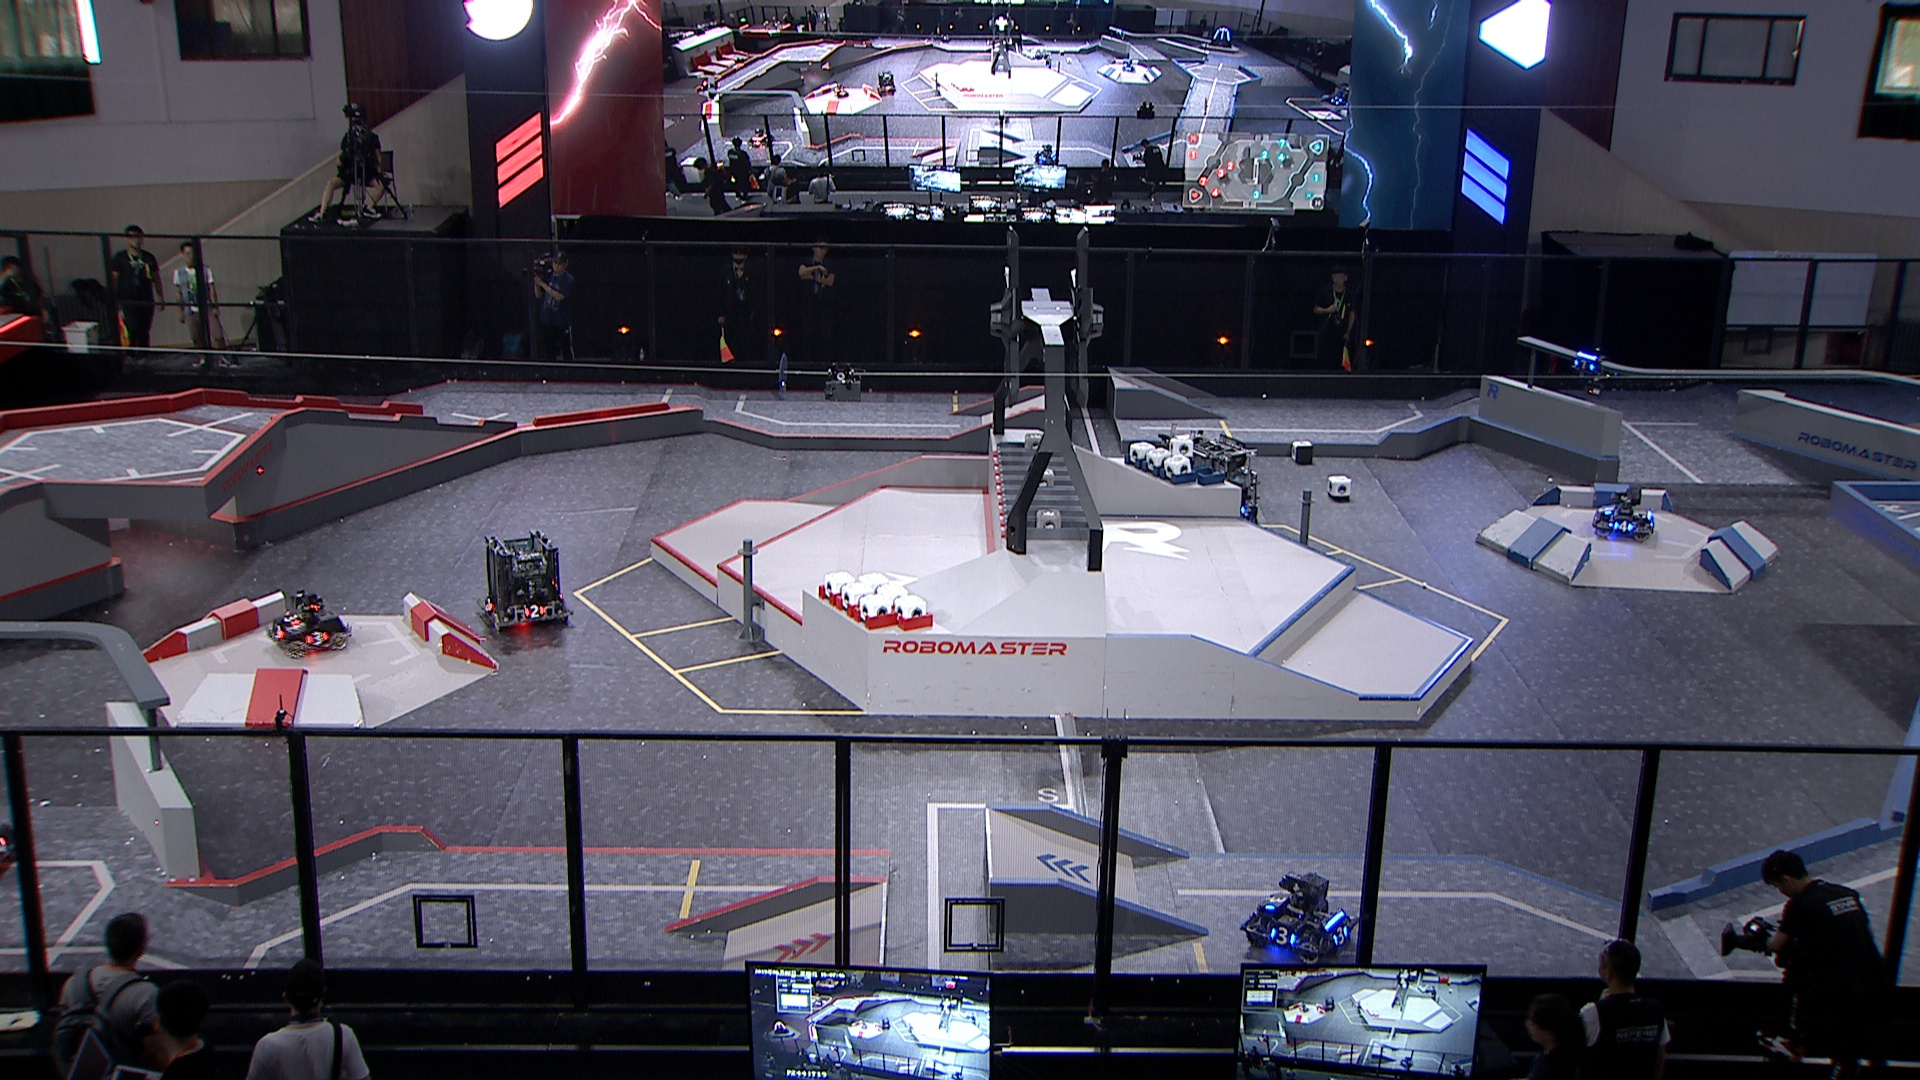armor: (1267, 926, 1298, 948), (522, 603, 546, 621), (1265, 893, 1287, 910), (305, 632, 328, 647), (1571, 357, 1596, 372), (1611, 520, 1636, 534), (1332, 924, 1349, 945), (282, 609, 299, 626), (481, 595, 495, 615), (272, 624, 284, 642)
car: (1236, 872, 1364, 967), (473, 531, 575, 638), (1159, 433, 1259, 533), (262, 588, 352, 659), (1592, 488, 1658, 543)
ignore: (1207, 25, 1234, 50), (876, 69, 898, 96), (1034, 144, 1059, 166), (1027, 47, 1051, 69), (746, 128, 773, 146), (1328, 86, 1349, 105), (1121, 58, 1138, 74), (835, 82, 851, 98)
watcher: (1571, 348, 1614, 398)
